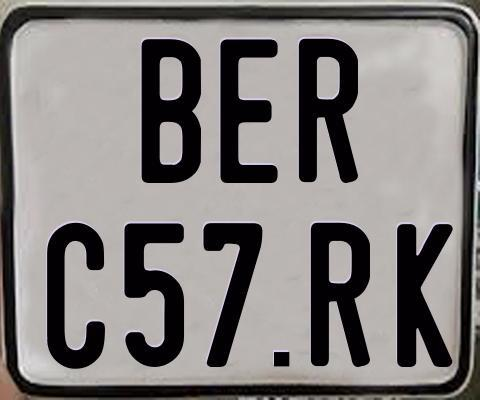5: (123, 220, 183, 366)
7: (200, 222, 262, 372)
B: (141, 36, 201, 186)
C: (47, 223, 110, 370)
E: (220, 37, 281, 186)
K: (395, 222, 451, 365)
R: (297, 36, 357, 186), (308, 220, 369, 364)
